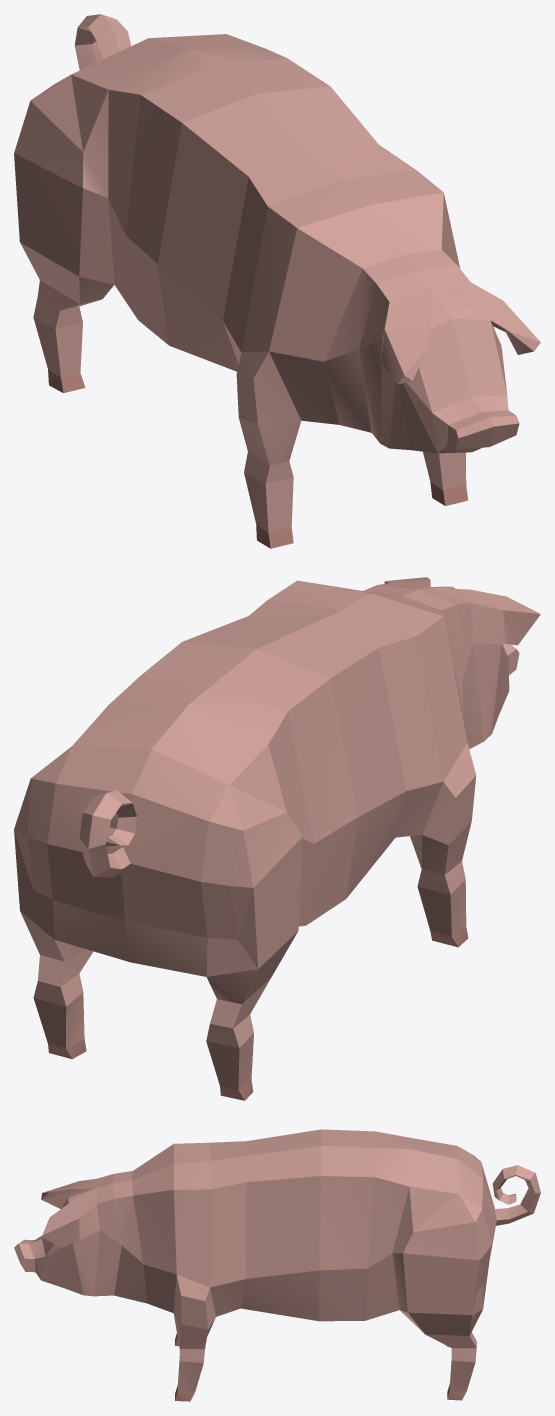
Rendered from pig.glb.
3 renders of one model, top to bottom at view 1: azimuth 30°, elevation 25°; view 2: azimuth 150°, elevation 25°; view 3: azimuth 270°, elevation 25°, orthographic. The views are drawn at different scales.
Parts seen in each view (by area): view 1: pig; view 2: pig; view 3: pig.
Part boxes in pixels (box(x1,y1,x2,y2)): pig: box(14, 14, 540, 548); pig: box(14, 577, 540, 1100); pig: box(14, 1129, 540, 1401).
Size of the model in its own units: 0.0389 by 0.054 by 0.115.
